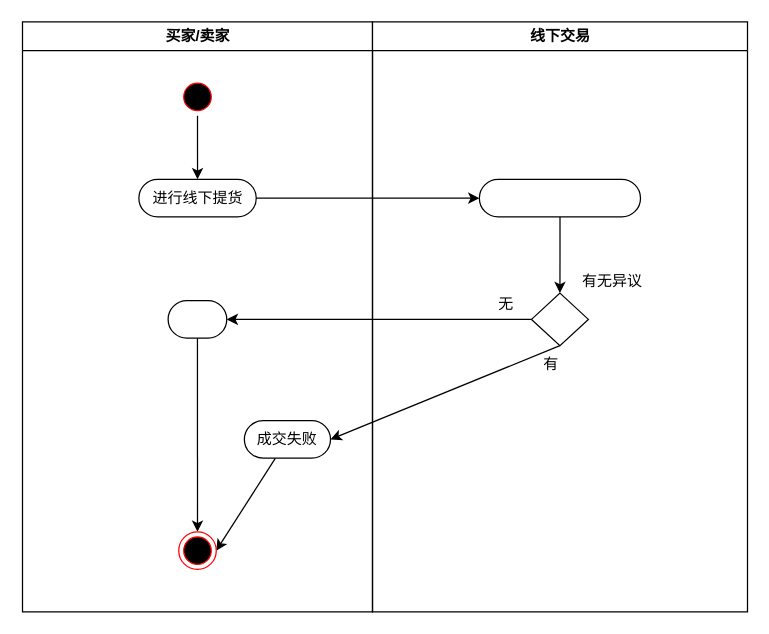
Some shapes in this 769 by 634 pixel diagram are drawn without their labels. Here are the shapes that lost their labels. From the top down, the centre of each, then its label:
point (559, 197): 线下对商品进行验货
point (197, 318): 成交
